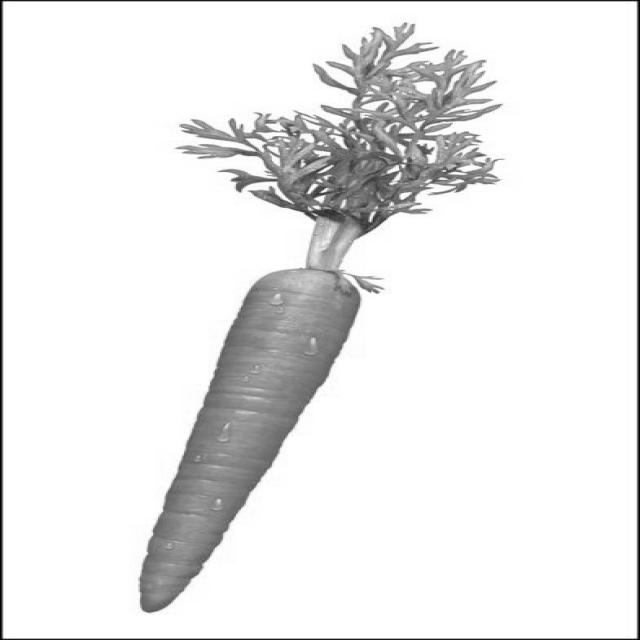Fresh_Carrot: (160, 248, 338, 640)
